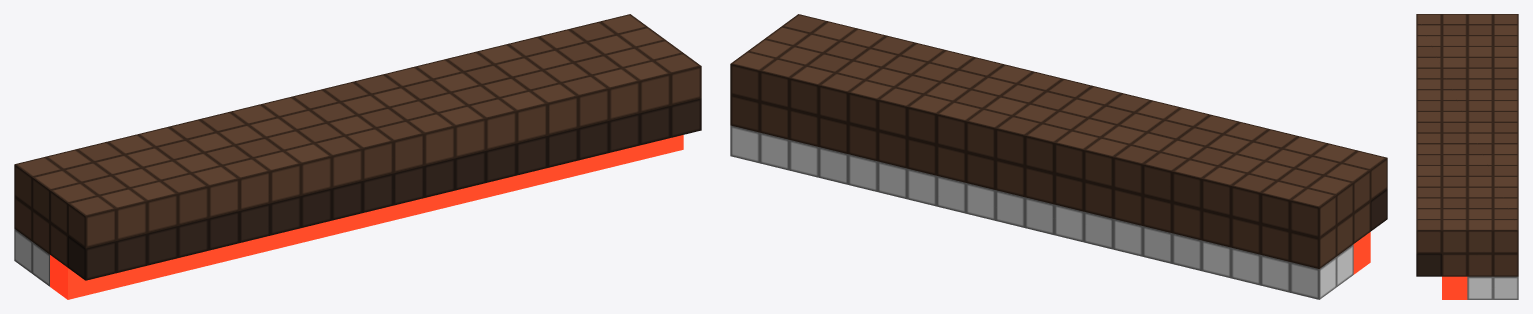
The model's file is raised_edge_neon.glb.
3 renders of one model, left to right at view 1: azimuth 30°, elevation 25°; view 2: azimuth 150°, elevation 25°; view 3: azimuth 270°, elevation 25°, orthographic. The views are drawn at different scales.
Parts seen in each view (by area): view 1: raised_edge_neon; view 2: raised_edge_neon; view 3: raised_edge_neon.
Part boxes in pixels (x1,y1,x2,y2): raised_edge_neon: (14,14,701,299); raised_edge_neon: (730,14,1387,299); raised_edge_neon: (1416,14,1518,299).
Size of the model in its own units: 1 by 0.15 by 0.2.
4 materials, 3 textured.
